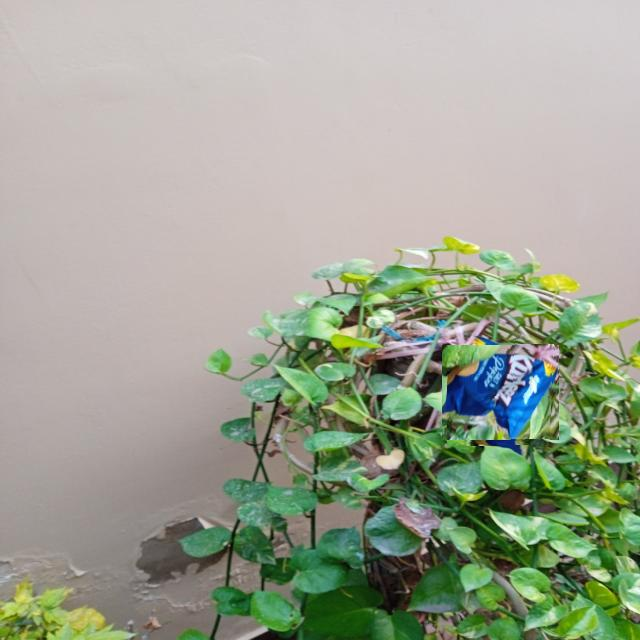Plastic: (447, 340, 554, 446)
